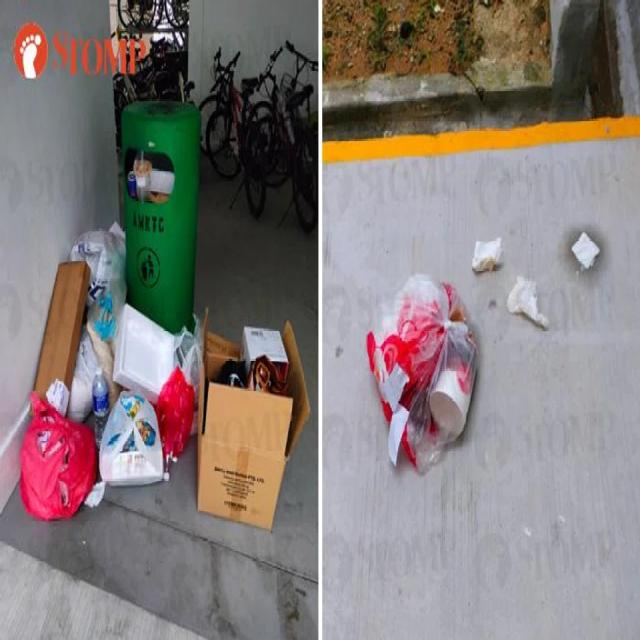bin_full: (120, 102, 200, 336)
bulk_waste: (196, 314, 301, 530), (112, 301, 177, 402), (70, 224, 127, 316), (67, 331, 100, 423)
normal_waste: (367, 276, 472, 467), (471, 235, 598, 332), (18, 393, 96, 519), (98, 390, 163, 487), (155, 366, 195, 466), (570, 230, 600, 268), (132, 150, 150, 202), (127, 172, 136, 196)
